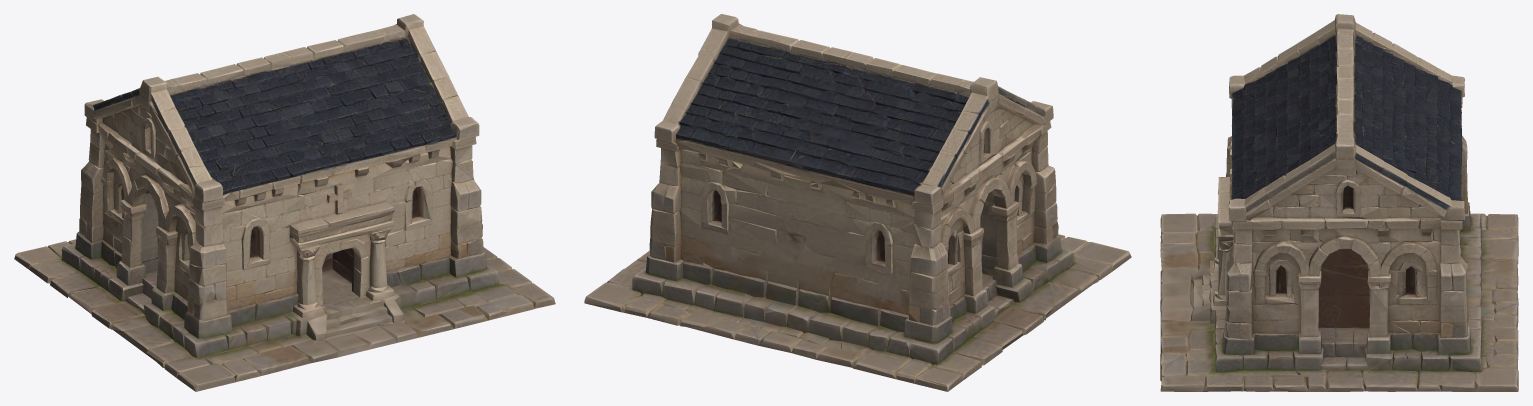
File: temple.glb
3 renders of one model, left to right at view 1: azimuth 30°, elevation 25°; view 2: azimuth 150°, elevation 25°; view 3: azimuth 270°, elevation 25°, orthographic. The views are drawn at different scales.
Bounding box in the file's own units: 1.9 × 1.16 × 1.66.
Materials: 1 (1 with a texture image).
